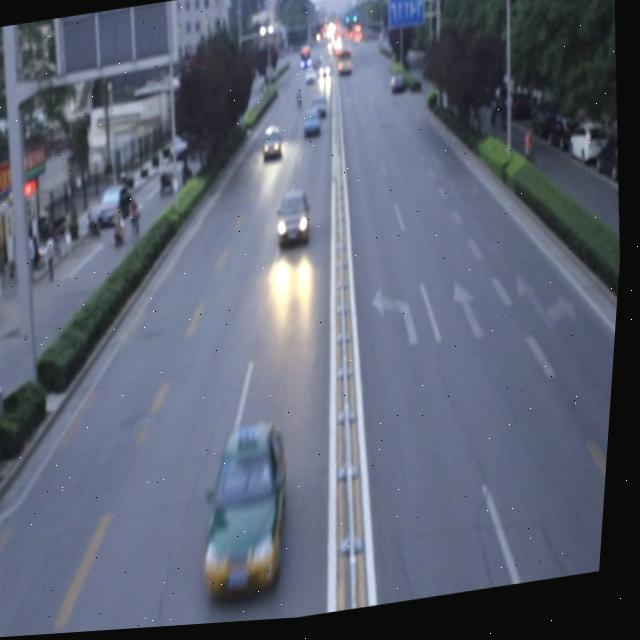car: (202, 419, 306, 601), (276, 190, 317, 248), (260, 125, 287, 167)
